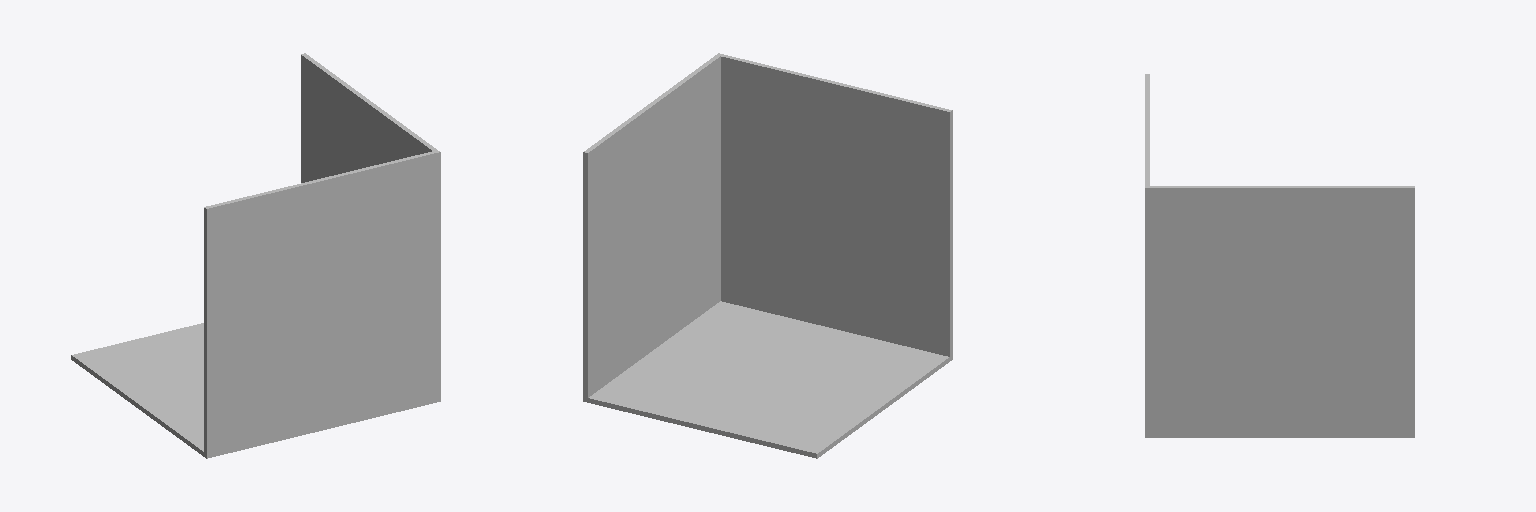
The model's file is TileTurn.obj.
3 renders of one model, left to right at view 1: azimuth 30°, elevation 25°; view 2: azimuth 150°, elevation 25°; view 3: azimuth 270°, elevation 25°, orthographic.
Visible parts, largest first — view 1: Tile_copy10; view 2: Tile_copy10; view 3: Tile_copy10.
Boxes of the visible parts, box(x1,y1,x2,y2) form: Tile_copy10: box(71, 53, 440, 458); Tile_copy10: box(583, 53, 952, 458); Tile_copy10: box(1145, 74, 1414, 437).
Size of the model in its own units: 5 by 5.1 by 5.